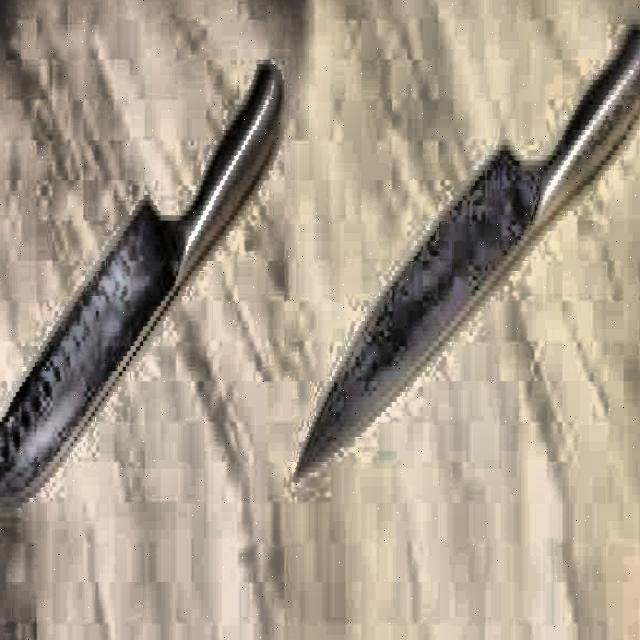knife: (297, 14, 640, 506), (0, 38, 294, 530)
